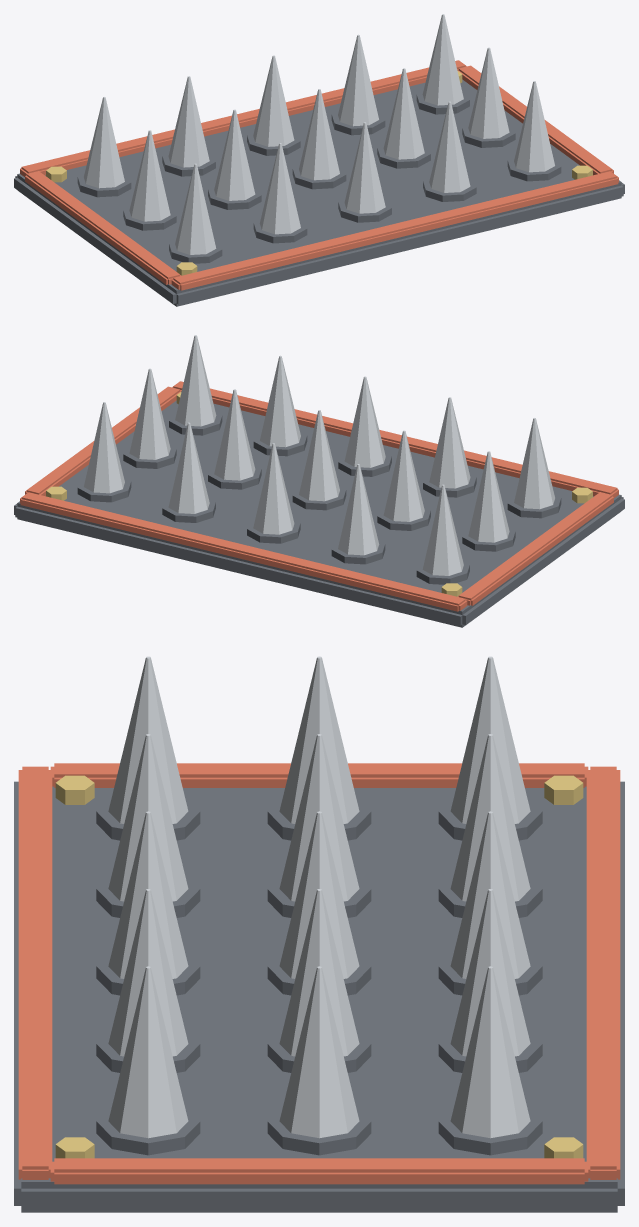
Rendered from SM_Trap_Spikes.fbx.
3 views of the same model, one above another, from view 1: azimuth 30°, elevation 25°; view 2: azimuth 150°, elevation 25°; view 3: azimuth 270°, elevation 25° (orthographic). The views are drawn at different scales.
Parts seen in each view (by area): view 1: SM_Trap_Spikes; view 2: SM_Trap_Spikes; view 3: SM_Trap_Spikes.
Part boxes in pixels (x1,y1,x2,y2): SM_Trap_Spikes: (14,14,624,306); SM_Trap_Spikes: (14,335,624,627); SM_Trap_Spikes: (14,656,624,1212).
Size of the model in its own units: 1.6 by 0.355 by 1.
